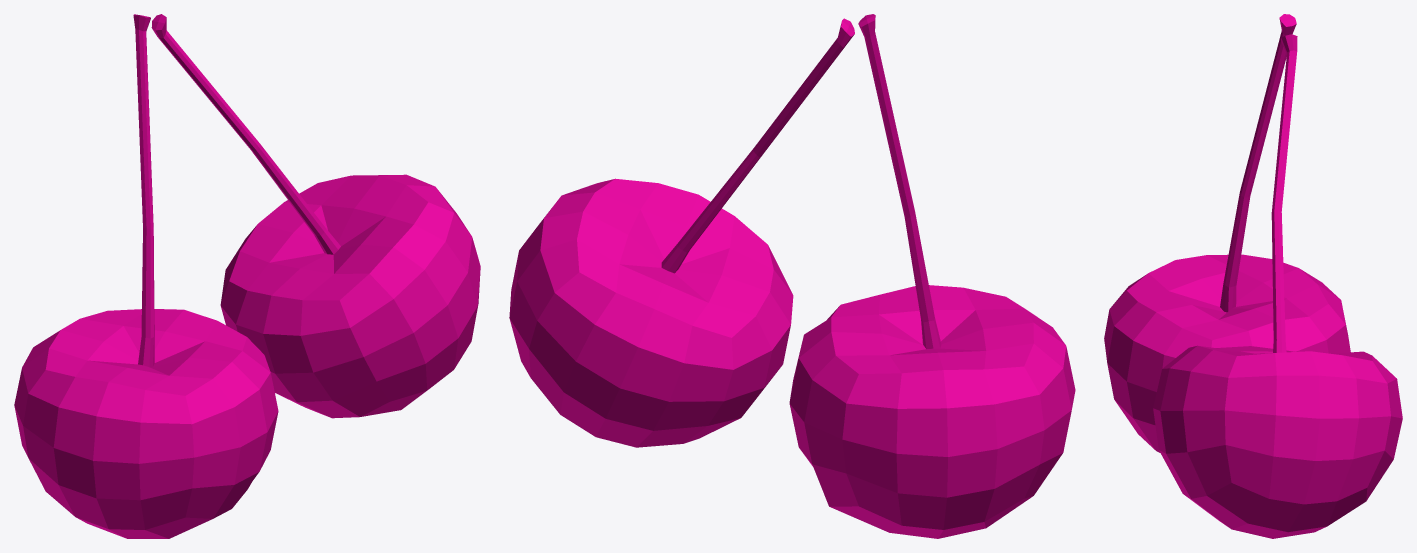
File: Cherry_01.fbx
The picture shows the model from 3 angles, left to right: view 1: azimuth 30°, elevation 25°; view 2: azimuth 150°, elevation 25°; view 3: azimuth 270°, elevation 25°; orthographic projection. The views are drawn at different scales.
Visible parts, largest first — view 1: Cherry_01; view 2: Cherry_01; view 3: Cherry_01.
Boxes of the visible parts, box(x1,y1,x2,y2) form: Cherry_01: box(14, 14, 480, 538); Cherry_01: box(509, 14, 1075, 538); Cherry_01: box(1104, 14, 1402, 538).
Size of the model in its own units: 5.23 by 5.3 by 3.12.
